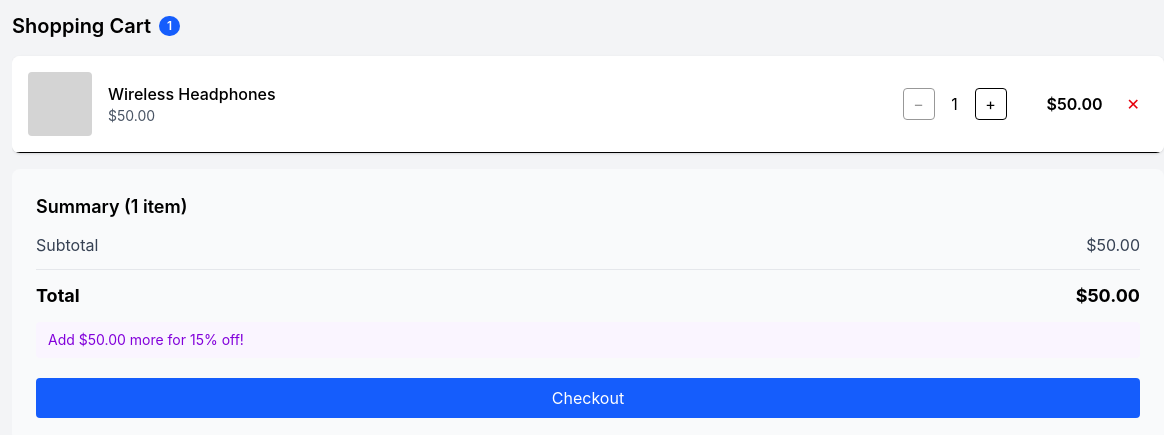
Test case: ShoppingCart › increases the quantity from the item row
This screenshot has width=1164, height=435.
Click the button "+". click: (991,104)
box: [975,88,1007,120]
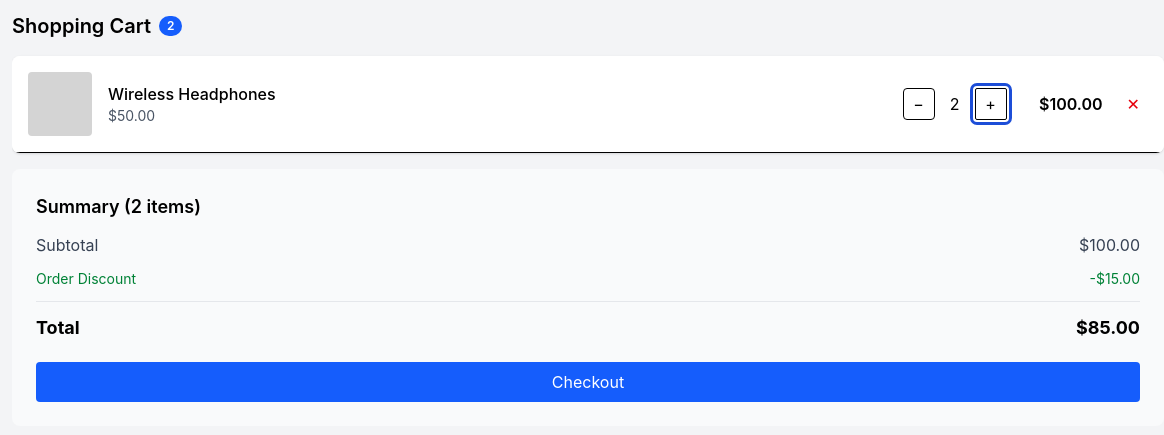
Expected: the text with test id "cart-item-quantity" reads "2", [950,94,960,114]
